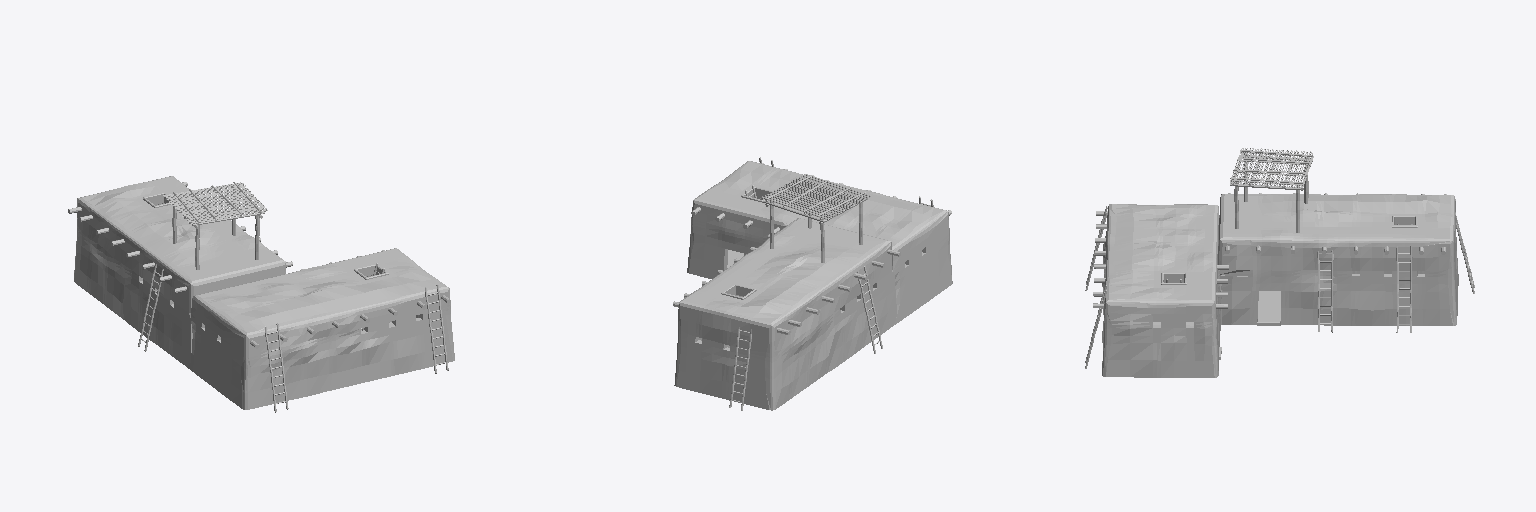
Rendered from lowpoly_turkish_house_009.obj.
The picture shows the model from 3 angles: view 1: azimuth 30°, elevation 25°; view 2: azimuth 150°, elevation 25°; view 3: azimuth 270°, elevation 25°; orthographic projection.
Parts seen in each view (by area): view 1: Cube.116, Cube.119, Cylinder.071; view 2: Cube.119, Cube.116, Cylinder.071; view 3: Cube.119, Cube.116, Cylinder.071, Cube.
Boxes of the visible parts, x1=… form: Cube.116: x1=187, y1=248, x2=454, y2=409; Cube.119: x1=74, y1=176, x2=285, y2=366; Cylinder.071: x1=163, y1=182, x2=267, y2=269; Cube.119: x1=674, y1=218, x2=896, y2=410; Cube.116: x1=687, y1=161, x2=952, y2=324; Cylinder.071: x1=762, y1=174, x2=870, y2=262; Cube.119: x1=1218, y1=194, x2=1458, y2=325; Cube.116: x1=1102, y1=204, x2=1221, y2=377; Cylinder.071: x1=1230, y1=148, x2=1313, y2=232; Cube: x1=1258, y1=291, x2=1280, y2=317.
Size of the model in its own units: 7.03 by 4.06 by 10.5.